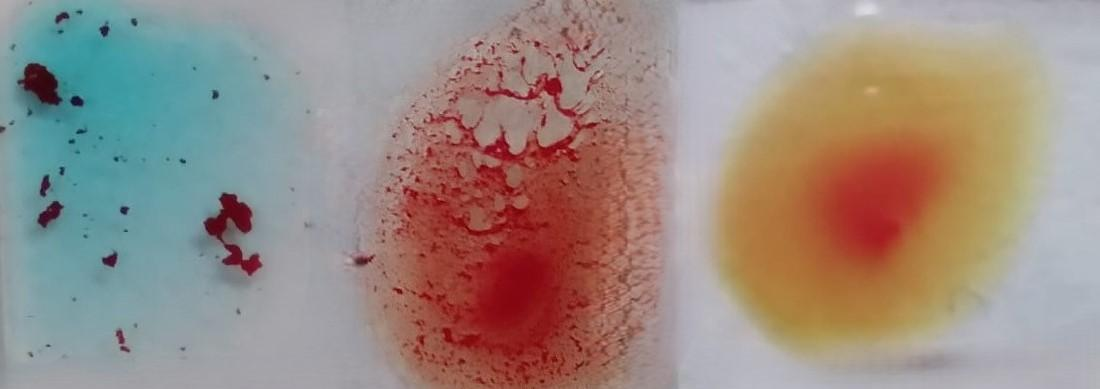A: (8, 0, 296, 374)
D: (366, 8, 659, 382)
